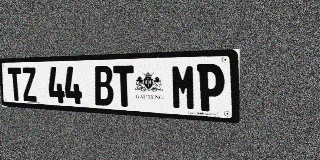4: (63, 66, 82, 104), (47, 67, 65, 103)
B: (93, 66, 114, 106)
M: (171, 64, 196, 111)
P: (197, 64, 224, 112)
T: (113, 65, 135, 107), (7, 67, 23, 101)
Z: (21, 67, 38, 102)
